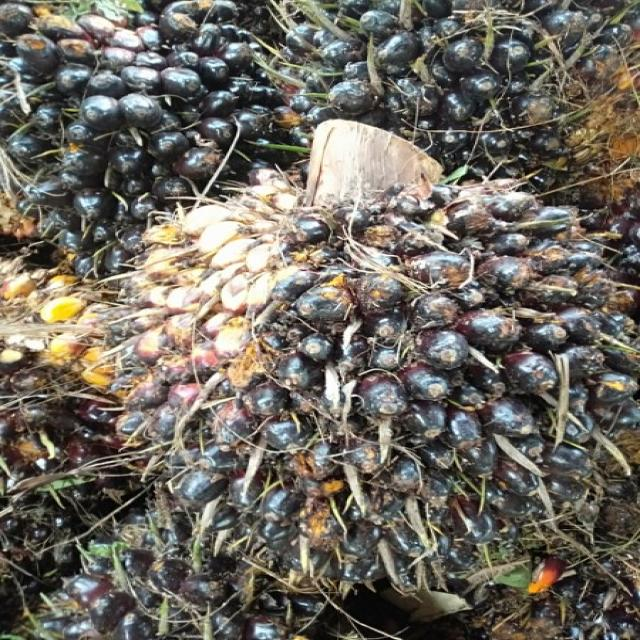fraksi 00: (97, 147, 628, 584)
